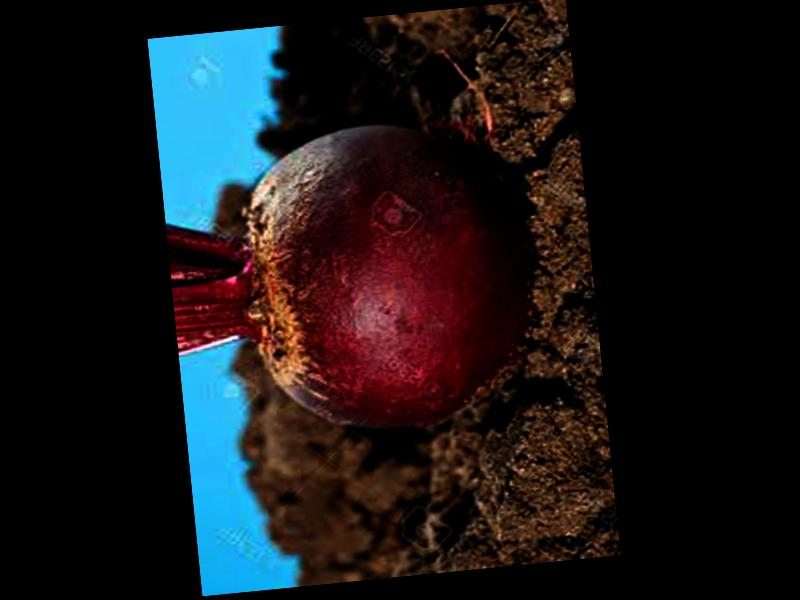Beet: (160, 108, 544, 447)
